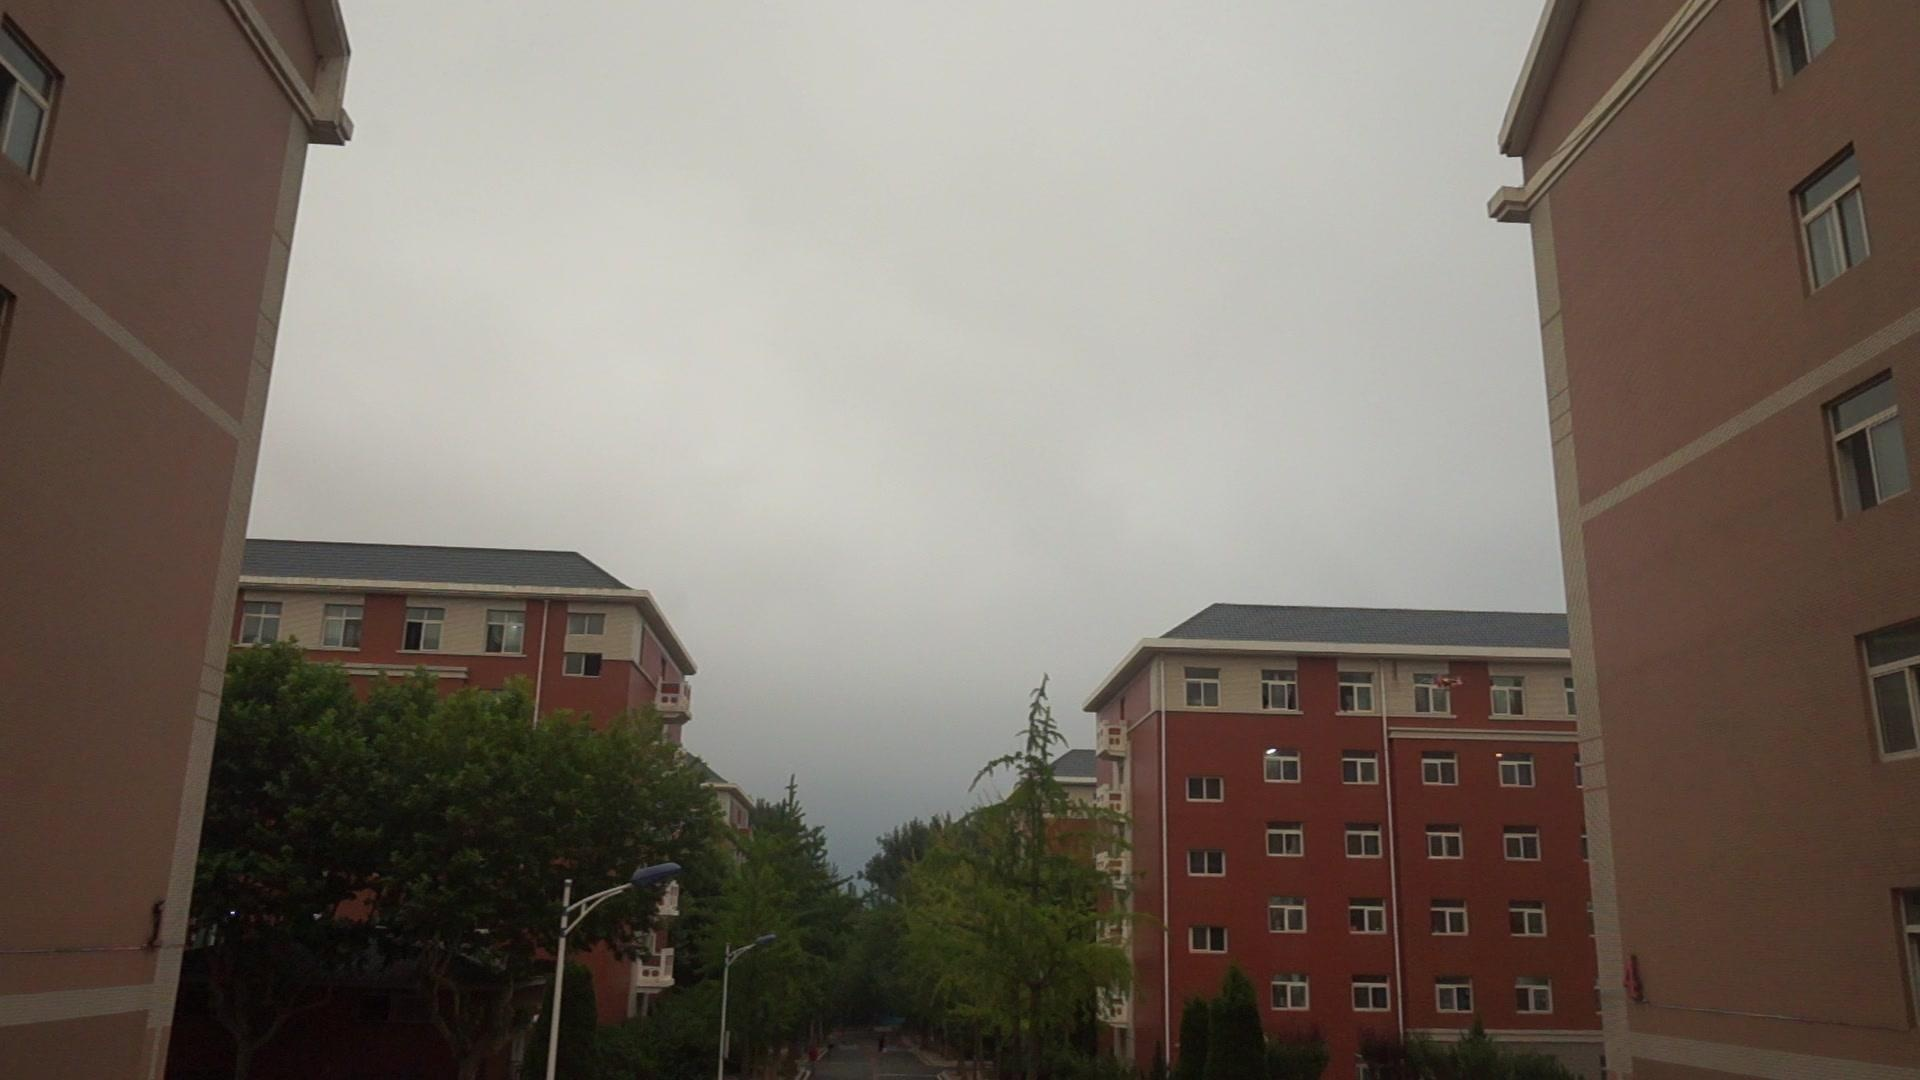UAV: (1422, 676, 1464, 688)
